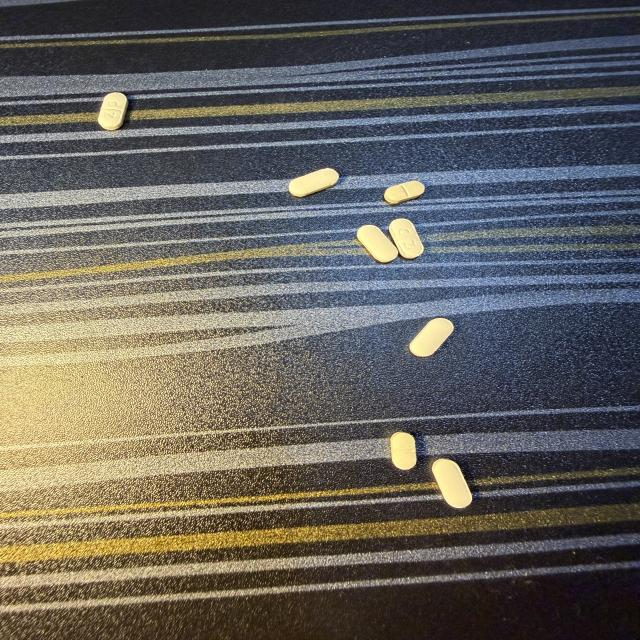pill: (432, 459, 471, 508), (410, 318, 453, 356), (357, 225, 398, 262), (388, 218, 424, 259), (289, 168, 339, 196), (98, 93, 128, 130), (391, 432, 416, 469), (384, 181, 424, 203)
